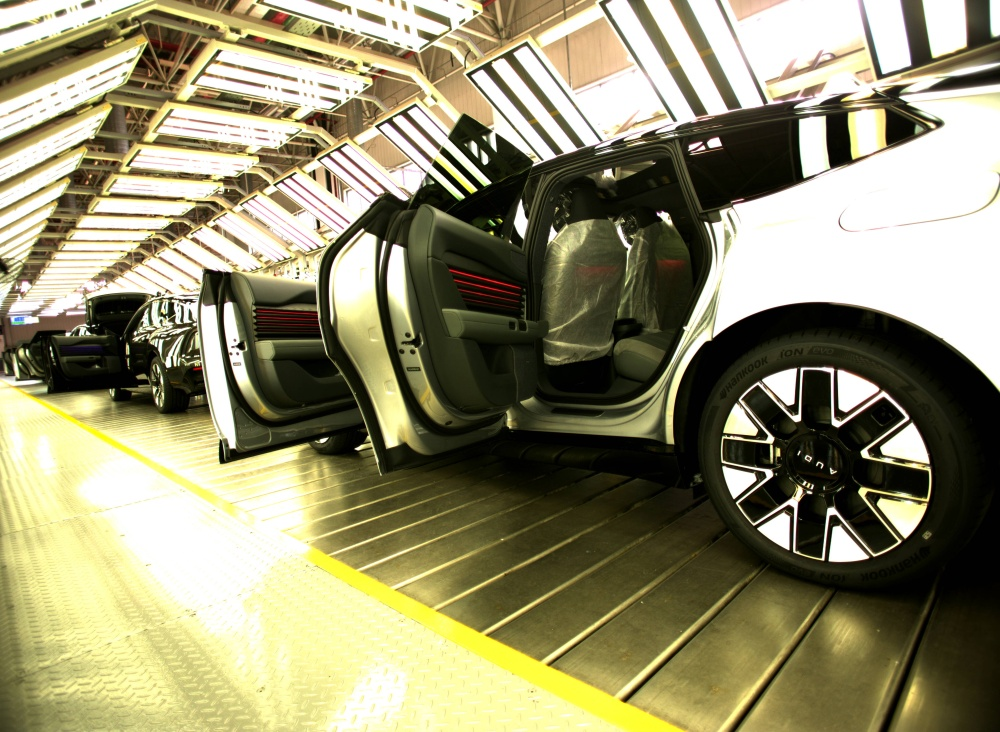armrest_color: (440, 306, 542, 344), (254, 338, 325, 359)
panel_color: (446, 262, 527, 319), (251, 308, 319, 336)
